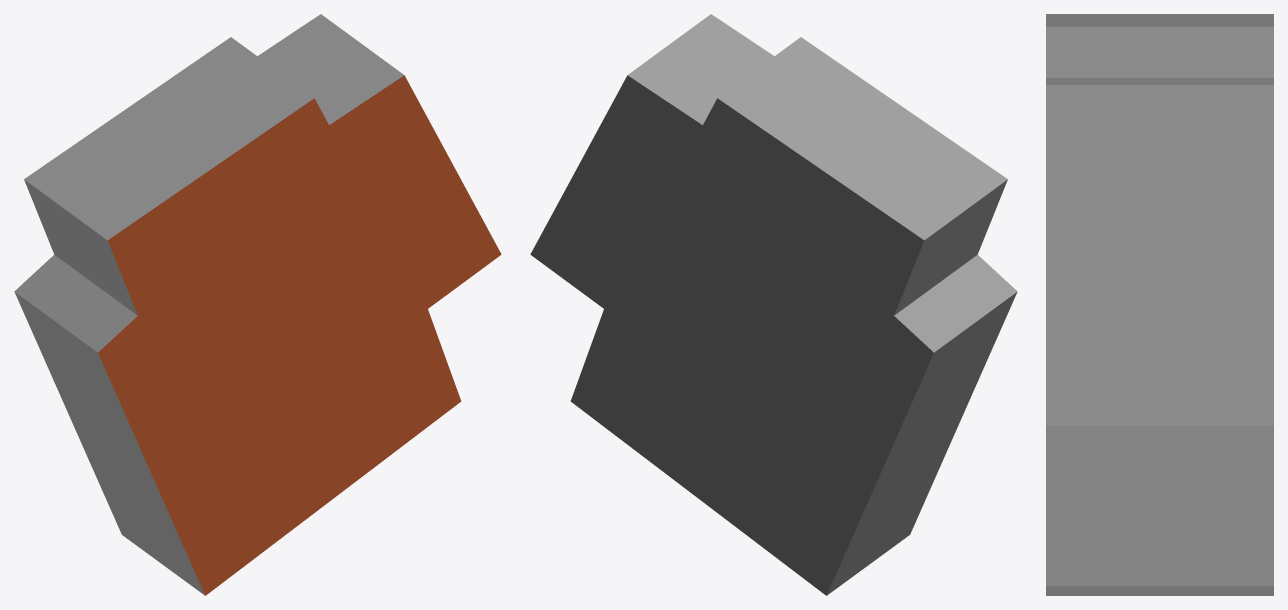
Rendered from construction_6069_assumed_A_Casa_h6m.obj.
3 renders of one model, left to right at view 1: azimuth 30°, elevation 25°; view 2: azimuth 150°, elevation 25°; view 3: azimuth 270°, elevation 25°, orthographic. The views are drawn at different scales.
Parts seen in each view (by area): view 1: construction_6069_assumed_A_Casa; view 2: construction_6069_assumed_A_Casa; view 3: construction_6069_assumed_A_Casa.
Boxes of the visible parts, bbox=[...] form: construction_6069_assumed_A_Casa: bbox=[14, 14, 501, 595]; construction_6069_assumed_A_Casa: bbox=[530, 14, 1017, 595]; construction_6069_assumed_A_Casa: bbox=[1046, 14, 1273, 595].
Bounding box in the file's own units: 16.73 × 18.69 × 6.
